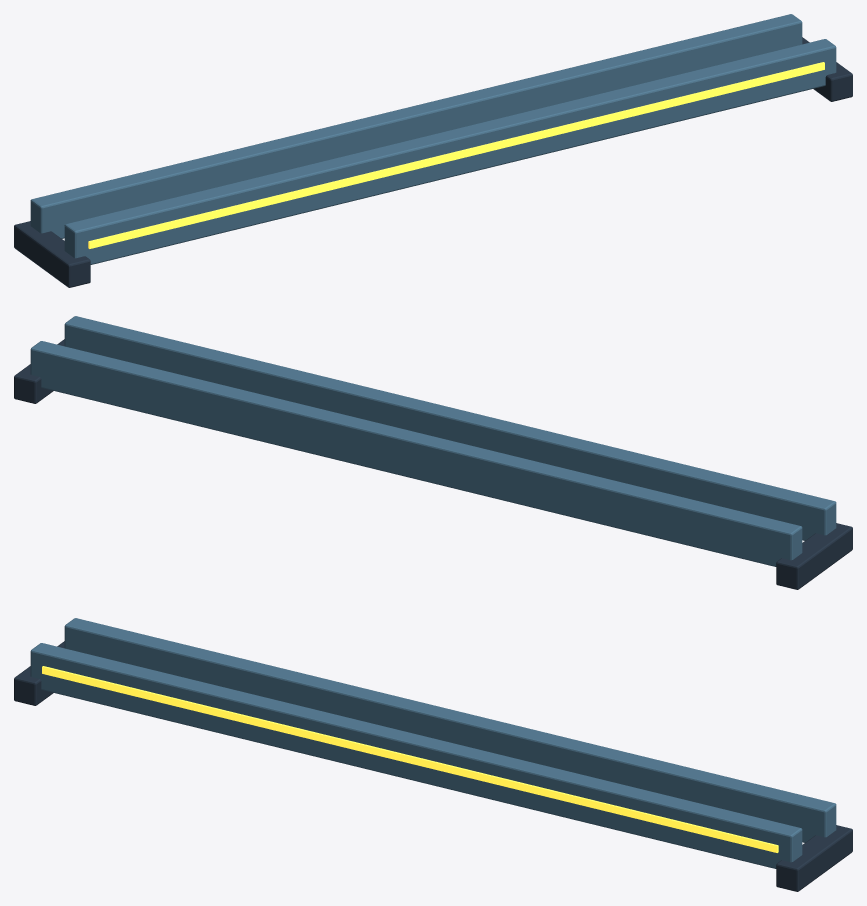
Rendered from bridge-crane-frame-v4-low.glb.
The picture shows the model from 3 angles, top to bottom: view 1: azimuth 30°, elevation 25°; view 2: azimuth 150°, elevation 25°; view 3: azimuth 330°, elevation 25°; orthographic projection.
Visible parts, largest first — view 1: bc-girder-s.001, bc-girder-n.001, bc-stripe-s.001, bc-endtruck-w.001, bc-endtruck-e.001; view 2: bc-girder-n.001, bc-girder-s.001, bc-endtruck-w.001, bc-endtruck-e.001; view 3: bc-girder-s.001, bc-girder-n.001, bc-stripe-s.001, bc-endtruck-e.001, bc-endtruck-w.001.
Boxes of the visible parts, x1=… form: bc-girder-s.001: x1=64, y1=39, x2=836, y2=264; bc-girder-n.001: x1=30, y1=14, x2=802, y2=238; bc-stripe-s.001: x1=88, y1=62, x2=824, y2=248; bc-endtruck-w.001: x1=14, y1=221, x2=90, y2=287; bc-endtruck-e.001: x1=802, y1=37, x2=852, y2=101; bc-girder-n.001: x1=30, y1=341, x2=802, y2=566; bc-girder-s.001: x1=64, y1=316, x2=836, y2=540; bc-endtruck-w.001: x1=776, y1=523, x2=852, y2=589; bc-endtruck-e.001: x1=14, y1=339, x2=64, y2=403; bc-girder-s.001: x1=30, y1=643, x2=802, y2=868; bc-girder-n.001: x1=64, y1=618, x2=836, y2=842; bc-stripe-s.001: x1=42, y1=666, x2=778, y2=852; bc-endtruck-e.001: x1=776, y1=825, x2=852, y2=891; bc-endtruck-w.001: x1=14, y1=641, x2=64, y2=705.
Bounding box in the file's own units: 29.35 × 1.8 × 3.6.
